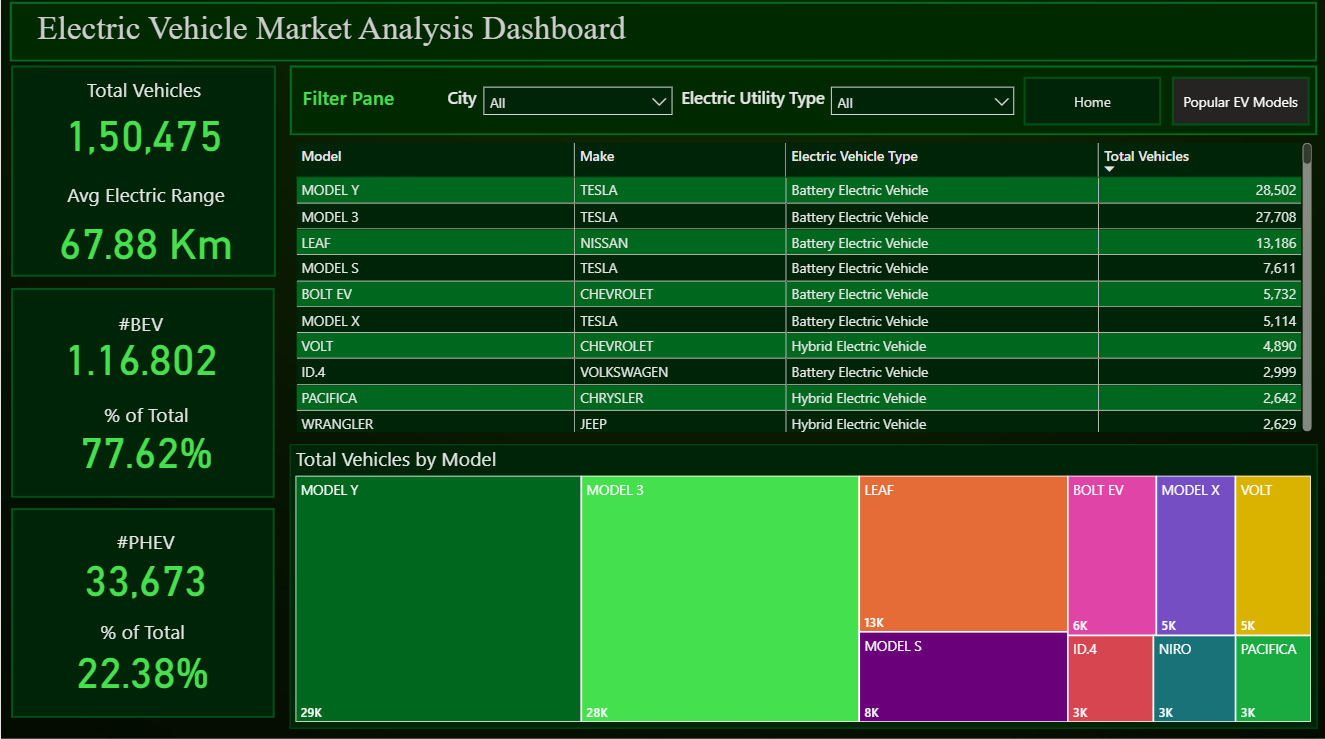

This screenshot's page, from the dashboard's own definition file:
{"tool":"powerbi","page":{"name":"Popular EV Models","canvas":[1280,720],"ordinal":1},"visuals":[{"type":"shape","box":[8.4,3.6,1261.9,57.9],"z":0},{"type":"slicer","title":"City","fields":{"Values":["Electric_Vehicle_Population_Dat.City"]},"box":[460.7,80.8,191.8,36.2],"z":0,"group":"g3"},{"type":"slicer","title":"City","fields":{"Values":["Electric_Vehicle_Population_Dat.City"]},"box":[796.6,80.8,186.9,35.1],"z":0,"group":"g4"},{"type":"card","title":"#BEV","fields":{"Values":["All Measures.#BEV Vehicles"]},"box":[41,301.6,188.2,67.5],"z":0,"group":"g1"},{"type":"card","title":"#PHEV","fields":{"Values":["All Measures.#PHEV Vehicles"]},"box":[45.8,511.5,188.2,73.2],"z":0,"group":"g2"},{"type":"textbox","box":[8.4,4.8,621.3,56.7],"z":1000},{"type":"card","title":"% of Total","fields":{"Values":["All Measures.%BEV"]},"box":[61.2,389.3,157.9,71.5],"z":1000,"group":"g1"},{"type":"card","title":"% of Total","fields":{"Values":["All Measures.%PHEV"]},"box":[58.4,597.9,157.9,77.6],"z":1000,"group":"g2"},{"type":"shape","box":[9.7,65.1,255.8,203.9],"z":3000},{"type":"shape","box":[9.7,279.9,254.6,202.7],"z":4000},{"type":"shape","box":[9.7,492.2,254.6,202.7],"z":5000},{"type":"shape","box":[278.7,65.1,991.7,67.6],"z":6000},{"type":"card","title":"Total Vehicles","fields":{"Values":["All Measures.Total Vehicles"]},"box":[49.5,76,177.3,86.9],"z":7000},{"type":"card","title":"Avg Electric Range","fields":{"Values":["All Measures.Avg Electric Range"]},"box":[36.2,177.3,207.5,91.7],"z":8000},{"type":"group","id":"g1","title":"Group 1","box":[41,301.6,188.2,159.3],"z":9000},{"type":"group","id":"g2","title":"Group 1","box":[45.8,511.5,188.2,164.1],"z":10000},{"type":"group","id":"g3","title":"Group 2","box":[460.7,80.8,191.8,36.2],"z":14000},{"type":"group","id":"g4","title":"Group 2","box":[796.6,80.8,186.9,35.1],"z":15000},{"type":"pageNavigator","box":[986.9,76,277.5,47.1],"z":16000},{"type":"textbox","box":[425.9,79.6,70,43.4],"z":18000},{"type":"textbox","box":[651.5,79.6,162.9,43.4],"z":19000},{"type":"tableEx","fields":{"Values":["Electric_Vehicle_Population_Dat.Model","Electric_Vehicle_Population_Dat.Make","Electric_Vehicle_Population_Dat.Electric Vehicle Type","All Measures.Total Vehicles"]},"box":[278.7,135.1,991.7,288.3],"z":19001},{"type":"treemap","fields":{"Group":["Electric_Vehicle_Population_Dat.Model"],"Values":["All Measures.Total Vehicles"]},"box":[278.6,430.9,992.1,274.4],"z":19002},{"type":"textbox","box":[285.9,78.4,131.5,45.8],"z":19003}]}

Visuals, with their boxes in screenshot pixels (x1, y1, x2, y2), scaled from the page's 1280x720 canvas onto the 1325x739 screenshot:
shape: x1=9, y1=4, x2=1315, y2=63
"City" slicer: x1=477, y1=83, x2=675, y2=120
"City" slicer: x1=825, y1=83, x2=1018, y2=119
"#BEV" card: x1=42, y1=310, x2=237, y2=379
"#PHEV" card: x1=47, y1=525, x2=242, y2=600
textbox: x1=9, y1=5, x2=652, y2=63
"% of Total" card: x1=63, y1=400, x2=227, y2=473
"% of Total" card: x1=60, y1=614, x2=224, y2=693
shape: x1=10, y1=67, x2=275, y2=276
shape: x1=10, y1=287, x2=274, y2=495
shape: x1=10, y1=505, x2=274, y2=713
shape: x1=288, y1=67, x2=1315, y2=136
"Total Vehicles" card: x1=51, y1=78, x2=235, y2=167
"Avg Electric Range" card: x1=37, y1=182, x2=252, y2=276
"Group 1" group: x1=42, y1=310, x2=237, y2=473
"Group 1" group: x1=47, y1=525, x2=242, y2=693
"Group 2" group: x1=477, y1=83, x2=675, y2=120
"Group 2" group: x1=825, y1=83, x2=1018, y2=119
pageNavigator: x1=1022, y1=78, x2=1309, y2=126
textbox: x1=441, y1=82, x2=513, y2=126
textbox: x1=674, y1=82, x2=843, y2=126
tableEx - Electric_Vehicle_Population_Dat.Model x Electric_Vehicle_Population_Dat.Make: x1=288, y1=139, x2=1315, y2=435
treemap - Electric_Vehicle_Population_Dat.Model x All Measures.Total Vehicles: x1=288, y1=442, x2=1315, y2=724
textbox: x1=296, y1=80, x2=432, y2=127
